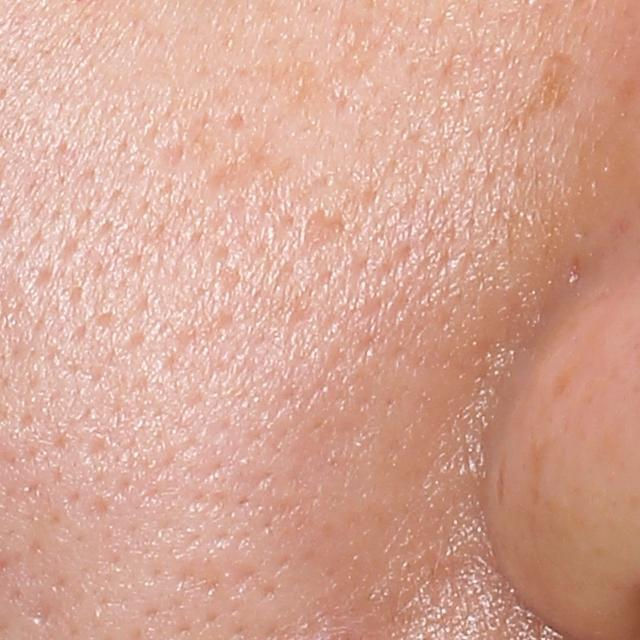atrophic_scar: (206, 152, 260, 192)
melasma: (494, 55, 582, 143)
